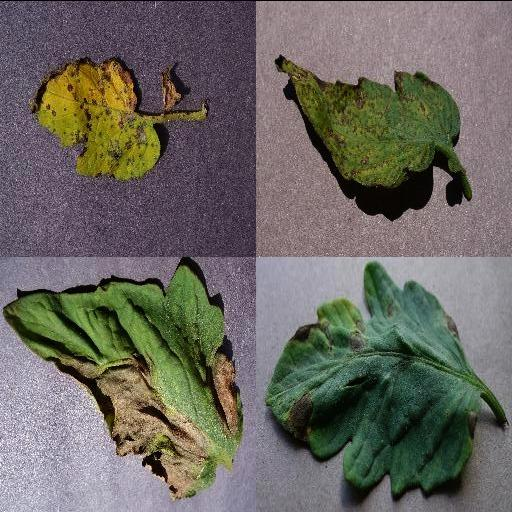Early Blight: (265, 262, 477, 497)
Late Blight: (1, 263, 243, 499)
Septoria: (273, 55, 463, 189), (28, 57, 162, 179)
